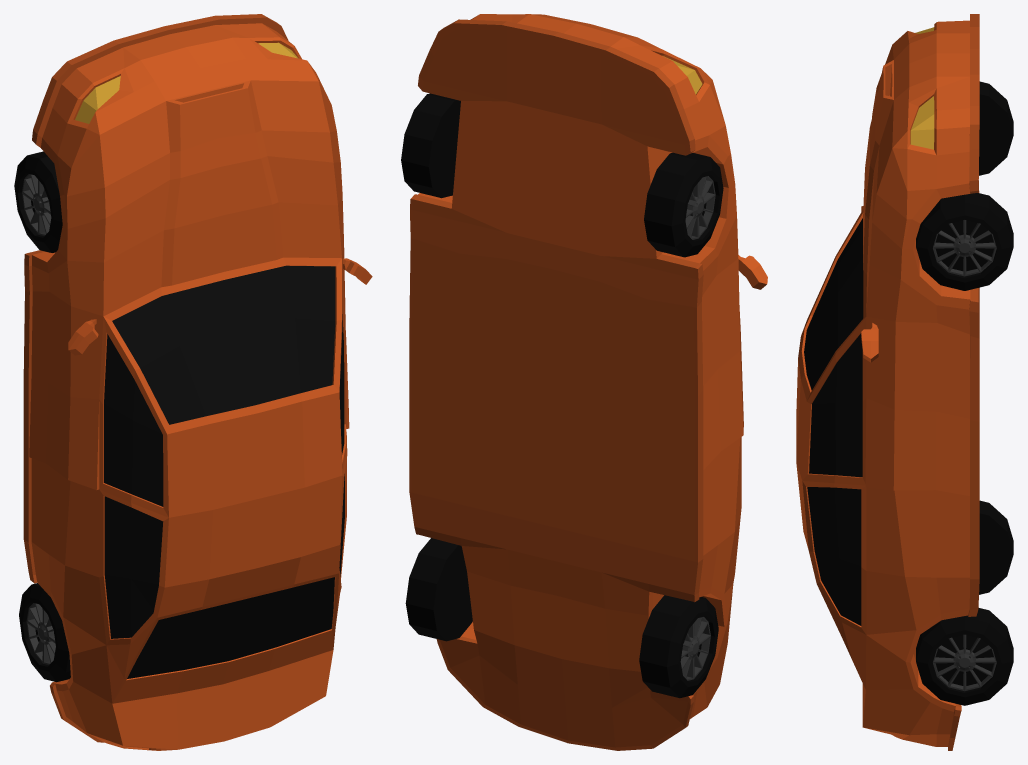
The model's file is SportsCar.glb.
3 views of the same model, side by side, from view 1: azimuth 30°, elevation 25°; view 2: azimuth 150°, elevation 25°; view 3: azimuth 270°, elevation 25° (orthographic). The views are drawn at different scales.
Parts seen in each view (by area): view 1: SportsCar, SportsCar_FrontLeftWheel, SportsCar_BackWheels; view 2: SportsCar, SportsCar_BackWheels, SportsCar_FrontLeftWheel, SportsCar_FrontRightWheel; view 3: SportsCar, SportsCar_BackWheels, SportsCar_FrontRightWheel, SportsCar_FrontLeftWheel.
Boxes of the visible parts, left/top/right/bottom form: SportsCar: left=23, top=14, right=372, bottom=750; SportsCar_FrontLeftWheel: left=14, top=151, right=62, bottom=252; SportsCar_BackWheels: left=19, top=583, right=70, bottom=682; SportsCar: left=409, top=14, right=767, bottom=750; SportsCar_BackWheels: left=405, top=538, right=718, bottom=698; SportsCar_FrontLeftWheel: left=644, top=152, right=723, bottom=257; SportsCar_FrontRightWheel: left=401, top=93, right=460, bottom=198; SportsCar: left=796, top=14, right=979, bottom=750; SportsCar_BackWheels: left=916, top=500, right=1013, bottom=705; SportsCar_FrontRightWheel: left=916, top=193, right=1013, bottom=290; SportsCar_FrontLeftWheel: left=979, top=81, right=1013, bottom=175.
Bounding box in the file's own units: 180 × 397 × 116.
